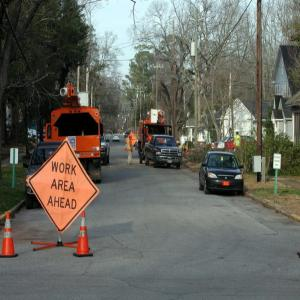Vehicle-registration-plate: (223, 181, 231, 187), (169, 160, 173, 164)
